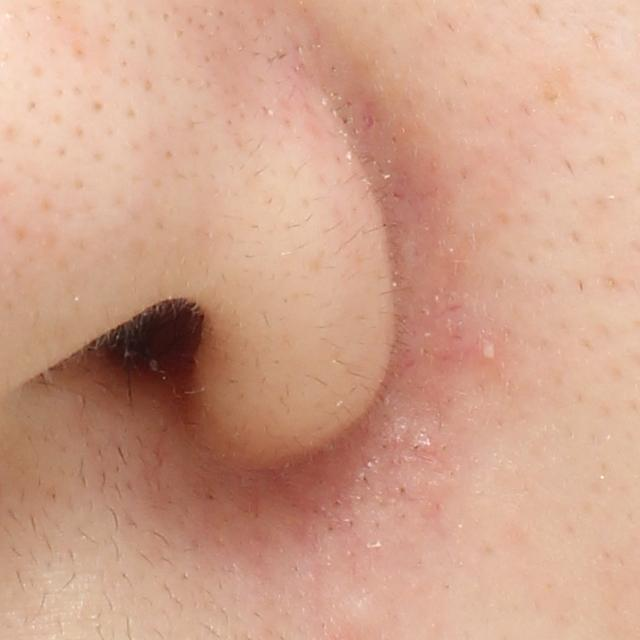pustule: (472, 337, 508, 363)
